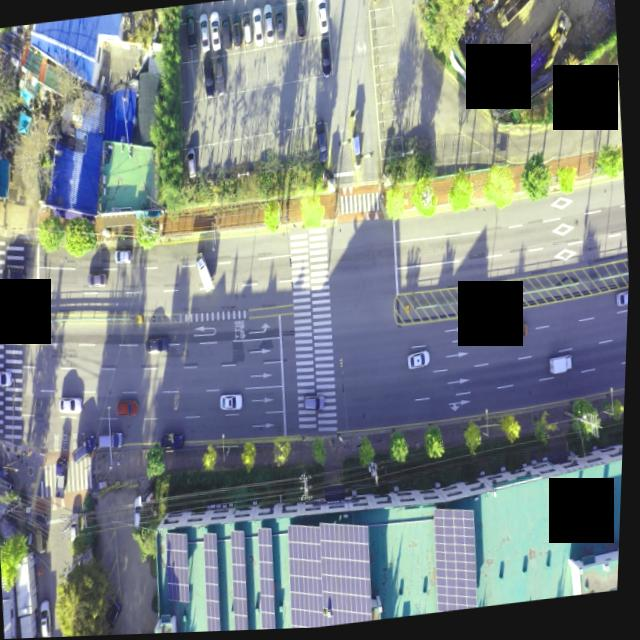car: (103, 594, 128, 635), (73, 436, 100, 465), (313, 120, 330, 166), (35, 510, 53, 552), (183, 7, 198, 51), (0, 263, 28, 286), (291, 1, 307, 41), (228, 13, 244, 52), (213, 54, 227, 96), (202, 55, 215, 99), (42, 597, 56, 637), (272, 5, 286, 44), (318, 40, 332, 78), (134, 493, 148, 531), (219, 12, 232, 52), (260, 5, 273, 44), (315, 0, 329, 36), (196, 13, 208, 52), (407, 352, 430, 372), (222, 392, 245, 412), (60, 395, 84, 414), (147, 333, 173, 350), (251, 10, 263, 46), (99, 434, 127, 449), (119, 398, 141, 417), (304, 395, 326, 414), (209, 18, 221, 51), (241, 17, 252, 47), (88, 270, 108, 286), (187, 150, 198, 178), (511, 324, 528, 341), (72, 514, 82, 542), (115, 248, 133, 263), (0, 368, 14, 387), (616, 294, 631, 310)
small_truck: (193, 244, 216, 298), (52, 454, 73, 500), (548, 357, 575, 379), (162, 429, 188, 449)
